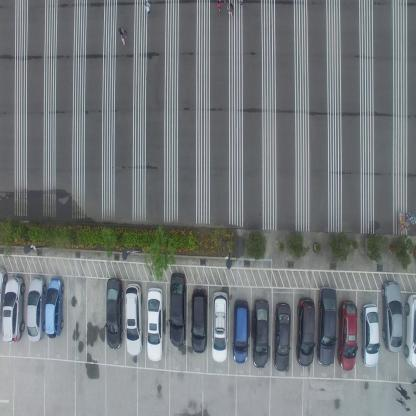car: (316, 287, 338, 366), (1, 276, 25, 345), (381, 279, 402, 353), (338, 300, 358, 370), (26, 274, 46, 344), (105, 278, 124, 349), (44, 276, 65, 339), (360, 302, 380, 368), (211, 290, 229, 363), (146, 286, 163, 363), (297, 297, 315, 367), (125, 283, 142, 356), (170, 271, 186, 347), (252, 300, 269, 370), (274, 302, 290, 372), (192, 286, 208, 354), (232, 299, 249, 363), (404, 293, 416, 370)
